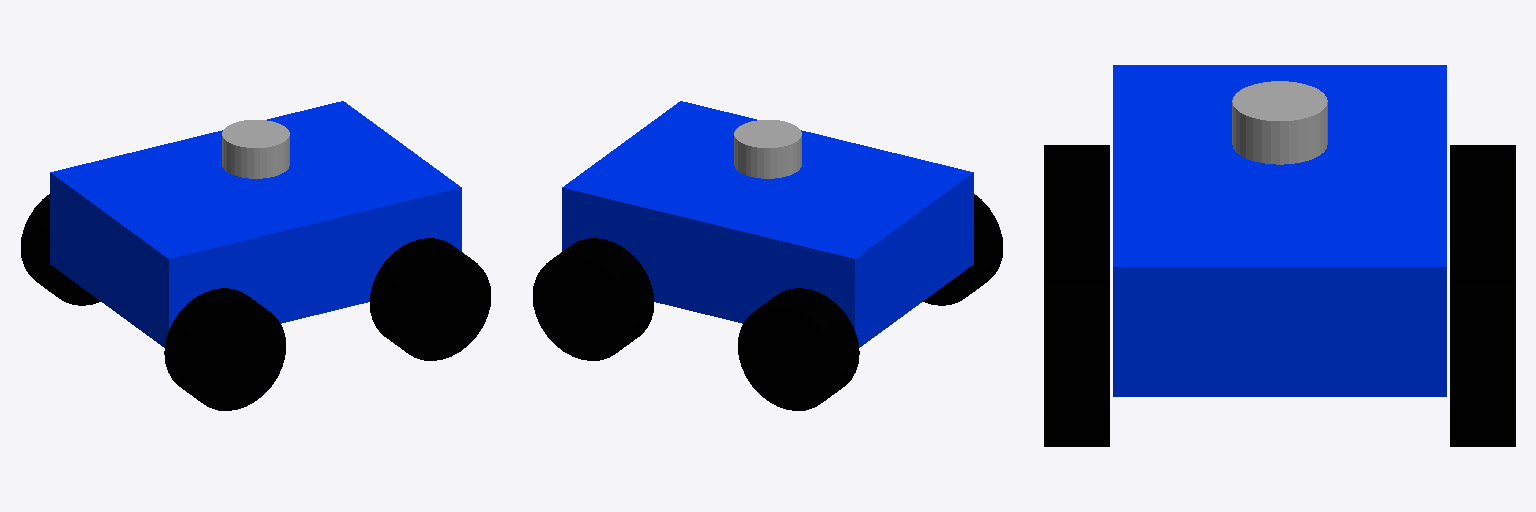
URDF robot description (new_mobile_robot):
<?xml version="1.0"?>
<robot name="new_mobile_robot">

  <!-- ================= BASIC DIMENSIONS ================= -->
  <!-- wheel radius = 0.0674 -->
  <!-- wheel thickness = 0.055 -->
  <!-- body size = 0.40 x 0.28 x 0.12 -->

  <link name="base_footprint"/>

  <joint name="base_footprint_joint" type="fixed">
    <parent link="base_footprint"/>
    <child link="base_link"/>
    <origin xyz="0 0 0.1274" rpy="0 0 0"/>
  </joint>

  <!-- ================= ROBOT BODY ================= -->
  <link name="base_link">
    <inertial>
      <origin xyz="0 0 -0.04" rpy="0 0 0"/>
      <mass value="15.0"/>
      <inertia ixx="0.10" ixy="0" ixz="0"
               iyy="0.20" iyz="0" izz="0.25"/>
    </inertial>

    <visual name="base_visual">
      <origin xyz="0 0 0" rpy="0 0 0"/>
      <geometry>
        <box size="0.40 0.28 0.12"/>
      </geometry>
      <material name="blue_body">
        <color rgba="0.0 0.25 1.0 1.0"/>
      </material>
    </visual>

    <collision name="base_collision">
      <origin xyz="0 0 0" rpy="0 0 0"/>
      <geometry>
        <box size="0.40 0.28 0.12"/>
      </geometry>
    </collision>
  </link>

  <!-- ================= LEFT FRONT WHEEL ================= -->
  <link name="left_front_wheel">
    <inertial>
      <origin xyz="0 0 0" rpy="0 0 0"/>
      <mass value="0.8"/>
      <inertia ixx="0.001" ixy="0" ixz="0"
               iyy="0.001" iyz="0" izz="0.001"/>
    </inertial>

    <visual name="left_front_wheel_visual">
      <origin xyz="0 0 0" rpy="1.5708 0 0"/>
      <geometry>
        <cylinder radius="0.0674" length="0.055"/>
      </geometry>
      <material name="wheel_black">
        <color rgba="0.01 0.01 0.01 1"/>
      </material>
    </visual>

    <collision name="left_front_wheel_collision">
      <origin xyz="0 0 0" rpy="1.5708 0 0"/>
      <geometry>
        <cylinder radius="0.0674" length="0.055"/>
      </geometry>
    </collision>
  </link>

  <joint name="left_front_joint" type="continuous">
    <parent link="base_link"/>
    <child link="left_front_wheel"/>
    <origin xyz="0.14 0.17 -0.06" rpy="0 0 0"/>
    <axis xyz="0 1 0"/>
    <dynamics damping="0.1" friction="0.1"/>
  </joint>

  <!-- ================= RIGHT FRONT WHEEL ================= -->
  <link name="right_front_wheel">
    <inertial>
      <origin xyz="0 0 0" rpy="0 0 0"/>
      <mass value="0.8"/>
      <inertia ixx="0.001" ixy="0" ixz="0"
               iyy="0.001" iyz="0" izz="0.001"/>
    </inertial>

    <visual name="right_front_wheel_visual">
      <origin xyz="0 0 0" rpy="1.5708 0 0"/>
      <geometry>
        <cylinder radius="0.0674" length="0.055"/>
      </geometry>
      <material name="wheel_black">
        <color rgba="0.01 0.01 0.01 1"/>
      </material>
    </visual>

    <collision name="right_front_wheel_collision">
      <origin xyz="0 0 0" rpy="1.5708 0 0"/>
      <geometry>
        <cylinder radius="0.0674" length="0.055"/>
      </geometry>
    </collision>
  </link>

  <joint name="right_front_joint" type="continuous">
    <parent link="base_link"/>
    <child link="right_front_wheel"/>
    <origin xyz="0.14 -0.17 -0.06" rpy="0 0 0"/>
    <axis xyz="0 1 0"/>
    <dynamics damping="0.1" friction="0.1"/>
  </joint>

  <!-- ================= LEFT BACK WHEEL ================= -->
  <link name="left_back_wheel">
    <inertial>
      <origin xyz="0 0 0" rpy="0 0 0"/>
      <mass value="0.8"/>
      <inertia ixx="0.001" ixy="0" ixz="0"
               iyy="0.001" iyz="0" izz="0.001"/>
    </inertial>

    <visual name="left_back_wheel_visual">
      <origin xyz="0 0 0" rpy="1.5708 0 0"/>
      <geometry>
        <cylinder radius="0.0674" length="0.055"/>
      </geometry>
      <material name="wheel_black">
        <color rgba="0.01 0.01 0.01 1"/>
      </material>
    </visual>

    <collision name="left_back_wheel_collision">
      <origin xyz="0 0 0" rpy="1.5708 0 0"/>
      <geometry>
        <cylinder radius="0.0674" length="0.055"/>
      </geometry>
    </collision>
  </link>

  <joint name="left_back_joint" type="continuous">
    <parent link="base_link"/>
    <child link="left_back_wheel"/>
    <origin xyz="-0.14 0.17 -0.06" rpy="0 0 0"/>
    <axis xyz="0 1 0"/>
    <dynamics damping="0.1" friction="0.1"/>
  </joint>

  <!-- ================= RIGHT BACK WHEEL ================= -->
  <link name="right_back_wheel">
    <inertial>
      <origin xyz="0 0 0" rpy="0 0 0"/>
      <mass value="0.8"/>
      <inertia ixx="0.001" ixy="0" ixz="0"
               iyy="0.001" iyz="0" izz="0.001"/>
    </inertial>

    <visual name="right_back_wheel_visual">
      <origin xyz="0 0 0" rpy="1.5708 0 0"/>
      <geometry>
        <cylinder radius="0.0674" length="0.055"/>
      </geometry>
      <material name="wheel_black">
        <color rgba="0.01 0.01 0.01 1"/>
      </material>
    </visual>

    <collision name="right_back_wheel_collision">
      <origin xyz="0 0 0" rpy="1.5708 0 0"/>
      <geometry>
        <cylinder radius="0.0674" length="0.055"/>
      </geometry>
    </collision>
  </link>

  <joint name="right_back_joint" type="continuous">
    <parent link="base_link"/>
    <child link="right_back_wheel"/>
    <origin xyz="-0.14 -0.17 -0.06" rpy="0 0 0"/>
    <axis xyz="0 1 0"/>
    <dynamics damping="0.1" friction="0.1"/>
  </joint>

  <!-- ================= LIDAR ================= -->
  <link name="lidar_link">
    <inertial>
      <origin xyz="0 0 0" rpy="0 0 0"/>
      <mass value="0.1"/>
      <inertia ixx="0.0001" ixy="0" ixz="0"
               iyy="0.0001" iyz="0" izz="0.0001"/>
    </inertial>

    <visual name="lidar_visual">
      <origin xyz="0 0 0" rpy="0 0 0"/>
      <geometry>
        <cylinder radius="0.04" length="0.04"/>
      </geometry>
      <material name="lidar_gray">
        <color rgba="0.7 0.7 0.7 1"/>
      </material>
    </visual>

    <collision name="lidar_collision">
      <origin xyz="0 0 0" rpy="0 0 0"/>
      <geometry>
        <cylinder radius="0.04" length="0.04"/>
      </geometry>
    </collision>
  </link>

  <joint name="lidar_joint" type="fixed">
    <parent link="base_link"/>
    <child link="lidar_link"/>
    <origin xyz="0 0 0.10" rpy="0 0 0"/>
  </joint>

  <!-- ================= GAZEBO COLORS / FRICTION ================= -->
  <gazebo reference="base_link">
    <material>Gazebo/Blue</material>
  </gazebo>

  <gazebo reference="left_front_wheel">
    <material>Gazebo/Black</material>
    <mu1>0.8</mu1>
    <mu2>0.8</mu2>
  </gazebo>

  <gazebo reference="right_front_wheel">
    <material>Gazebo/Black</material>
    <mu1>0.8</mu1>
    <mu2>0.8</mu2>
  </gazebo>

  <gazebo reference="left_back_wheel">
    <material>Gazebo/Black</material>
    <mu1>0.8</mu1>
    <mu2>0.8</mu2>
  </gazebo>

  <gazebo reference="right_back_wheel">
    <material>Gazebo/Black</material>
    <mu1>0.8</mu1>
    <mu2>0.8</mu2>
  </gazebo>

  <!-- ================= LIDAR SENSOR ================= -->
  <gazebo reference="lidar_link">
    <material>Gazebo/Grey</material>

    <sensor name="lidar" type="ray">
      <always_on>true</always_on>
      <visualize>false</visualize>
      <update_rate>10</update_rate>

      <ray>
        <scan>
          <horizontal>
            <samples>360</samples>
            <resolution>1</resolution>
            <min_angle>-3.14159</min_angle>
            <max_angle>3.14159</max_angle>
          </horizontal>
        </scan>

        <range>
          <min>0.15</min>
          <max>10.0</max>
          <resolution>0.01</resolution>
        </range>

        <noise>
          <type>gaussian</type>
          <mean>0.0</mean>
          <stddev>0.01</stddev>
        </noise>
      </ray>

      <plugin name="gazebo_ros_lidar" filename="libgazebo_ros_ray_sensor.so">
        <ros>
          <remapping>~/out:=scan</remapping>
        </ros>
        <output_type>sensor_msgs/LaserScan</output_type>
        <frame_name>lidar_link</frame_name>
      </plugin>
    </sensor>
  </gazebo>

  <!-- ================= DIFF DRIVE ================= -->
  <gazebo>
    <plugin name="diff_drive" filename="libgazebo_ros_diff_drive.so">
      <ros>
        <namespace>/</namespace>
        <remapping>cmd_vel:=cmd_vel</remapping>
        <remapping>odom:=odom</remapping>
      </ros>

      <update_rate>50</update_rate>

      <left_joint>left_back_joint</left_joint>
      <right_joint>right_back_joint</right_joint>

      <wheel_separation>0.34</wheel_separation>
      <wheel_diameter>0.1348</wheel_diameter>

      <max_wheel_torque>20.0</max_wheel_torque>
      <max_wheel_acceleration>2.0</max_wheel_acceleration>

      <publish_odom>true</publish_odom>
      <publish_odom_tf>true</publish_odom_tf>
      <publish_wheel_tf>true</publish_wheel_tf>

      <odometry_frame>odom</odometry_frame>
      <robot_base_frame>base_footprint</robot_base_frame>
    </plugin>
  </gazebo>

</robot>

--- Render facts (derived) ---
3 views of the same robot in one strip: view 1: azimuth 30°, elevation 25°; view 2: azimuth 150°, elevation 25°; view 3: azimuth 270°, elevation 25° (orthographic).
Model new_mobile_robot with 7 links and 6 joints (4 continuous, 2 fixed), rooted at base_footprint, posed every joint at zero.
Links seen in each view (by area): view 1: base_link, right_back_wheel, right_front_wheel, lidar_link, left_back_wheel; view 2: base_link, left_back_wheel, left_front_wheel, lidar_link, right_back_wheel; view 3: base_link, left_front_wheel, right_front_wheel, left_back_wheel, right_back_wheel, lidar_link.
Link boxes in pixels (x1,y1,x2,y2): base_link: (50,101,461,347); right_back_wheel: (164,288,285,410); right_front_wheel: (370,238,490,360); lidar_link: (222,120,289,178); left_back_wheel: (21,194,100,305); base_link: (562,101,973,347); left_back_wheel: (738,288,859,410); left_front_wheel: (533,238,653,360); lidar_link: (734,120,801,178); right_back_wheel: (923,194,1002,305); base_link: (1113,65,1446,396); left_front_wheel: (1450,286,1515,446); right_front_wheel: (1044,286,1109,446); left_back_wheel: (1450,145,1515,285); right_back_wheel: (1044,145,1109,285); lidar_link: (1232,81,1327,164).
Size in the robot's own frame: 0.4148 by 0.395 by 0.2474 metres.
Geometry: primitives only (box / cylinder / sphere), no mesh files.
